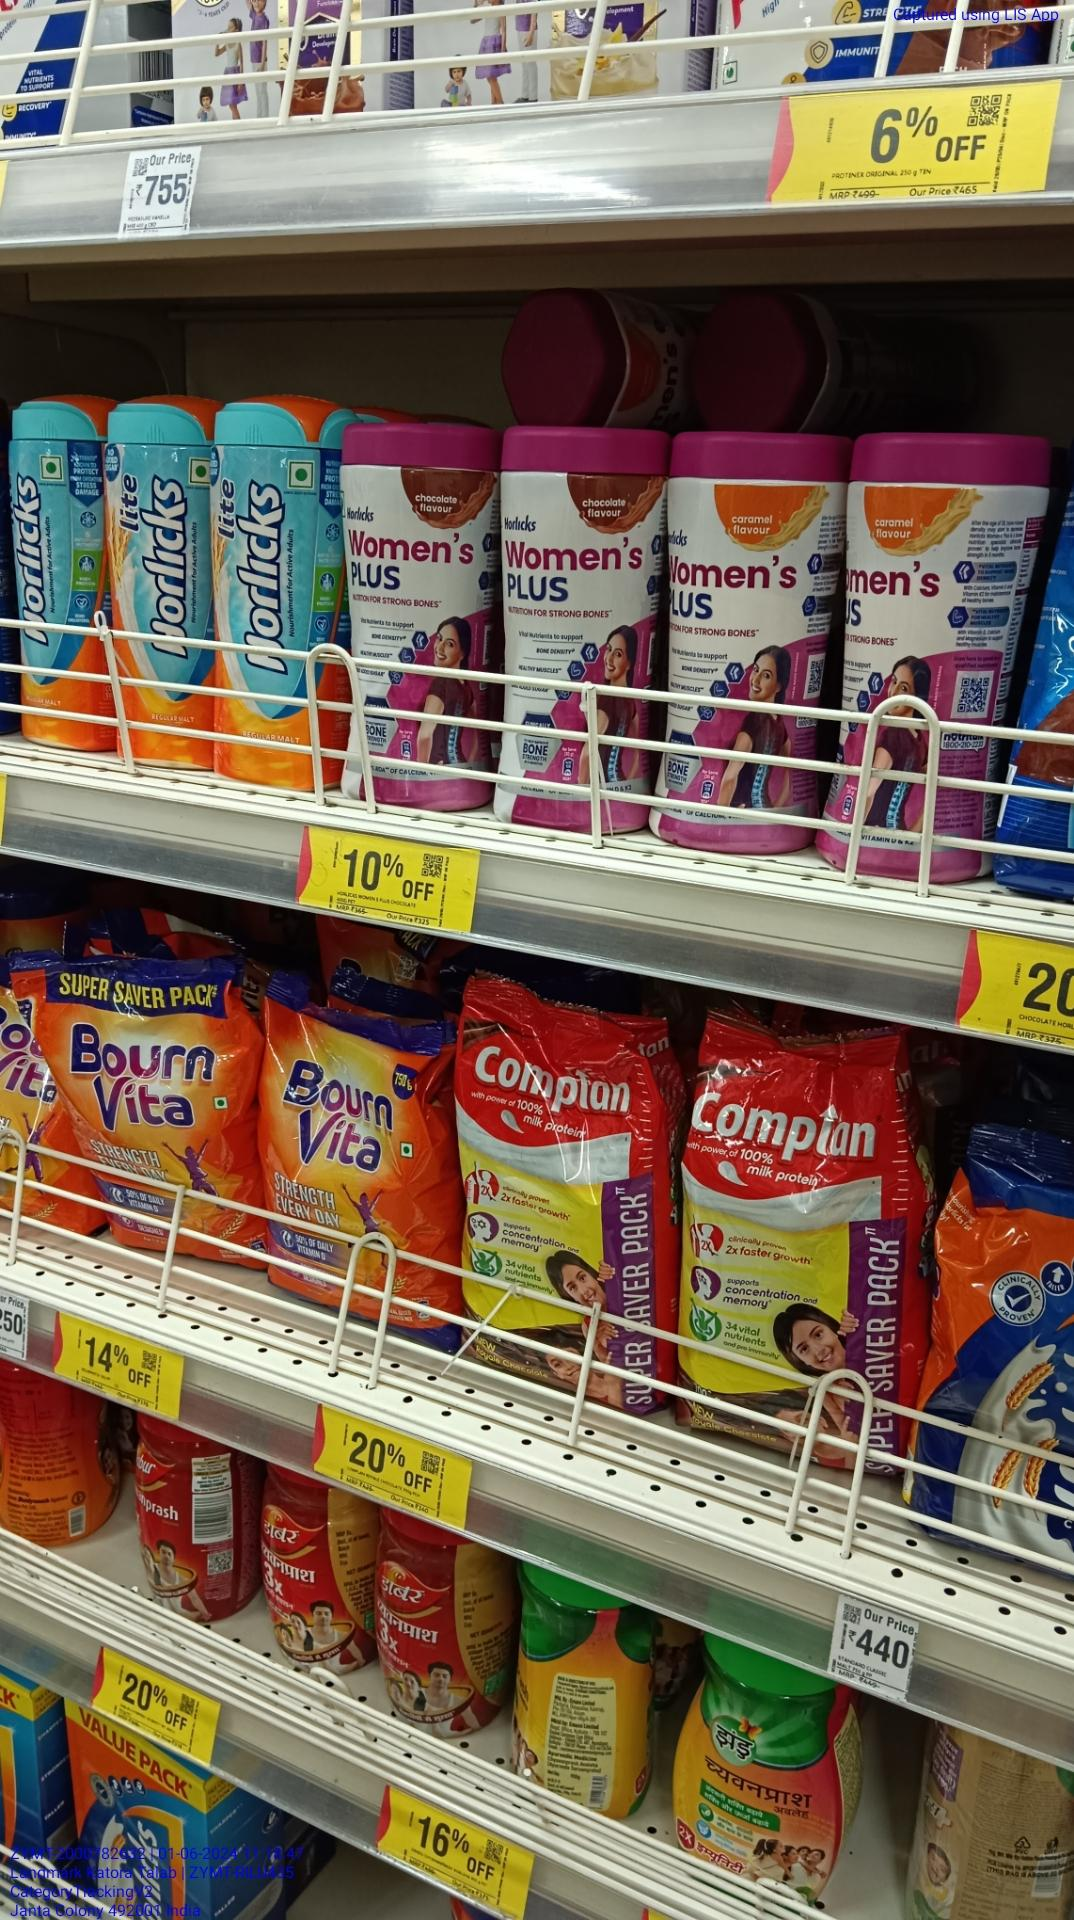HORLICKS_LITE_REGULAR_MALT_500_GM_JAR: (214, 396, 340, 793), (110, 392, 205, 769), (7, 396, 99, 756)
